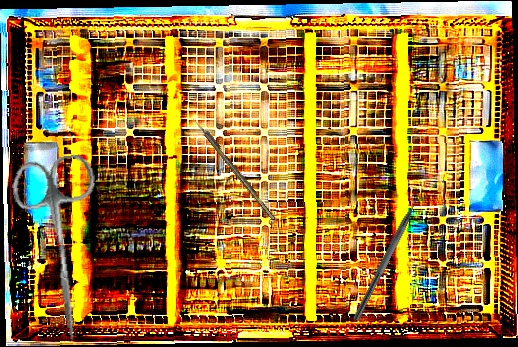Chopper: (351, 186, 433, 327)
Hook Surgical: (191, 115, 277, 222)
Iris Scissors: (9, 152, 117, 347)
